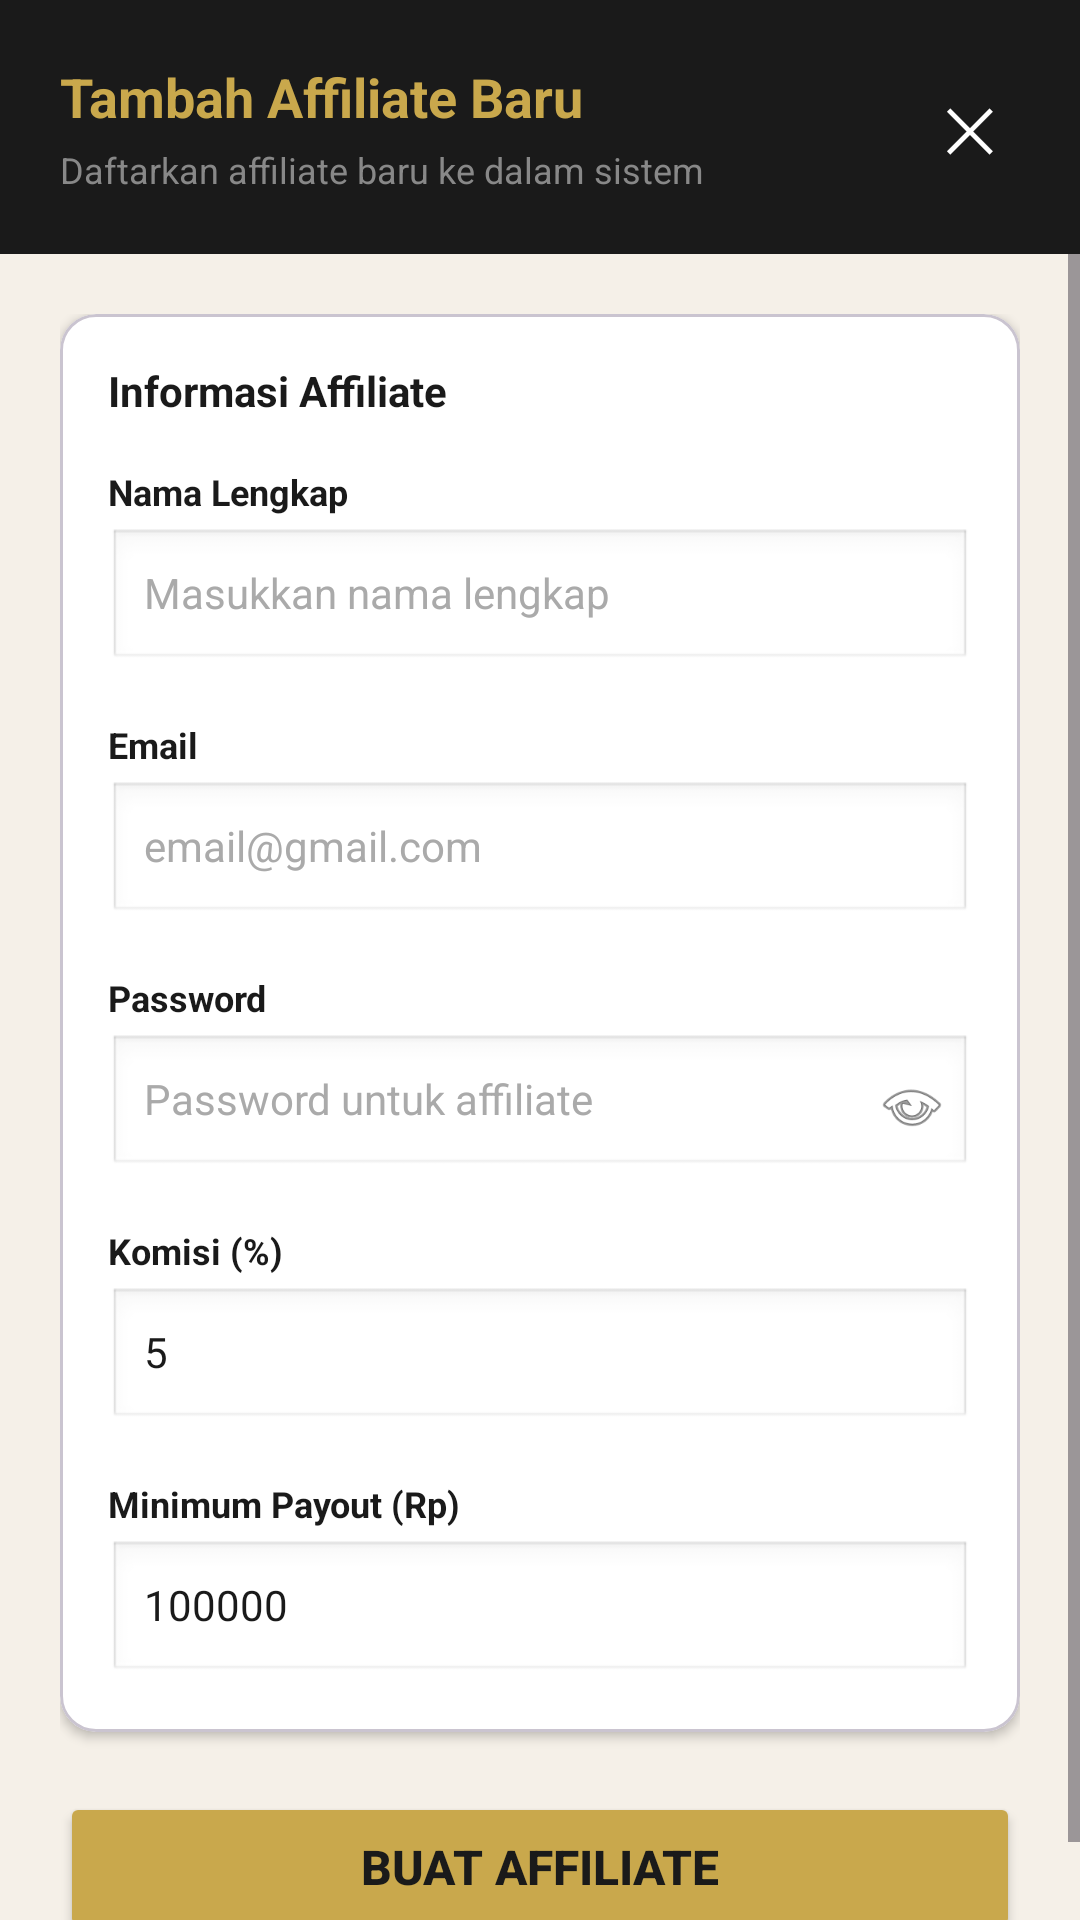

Where to tap for icons on this 1080px x 1920px app screen, as (x,y):
Toggle password: (912,1107)
